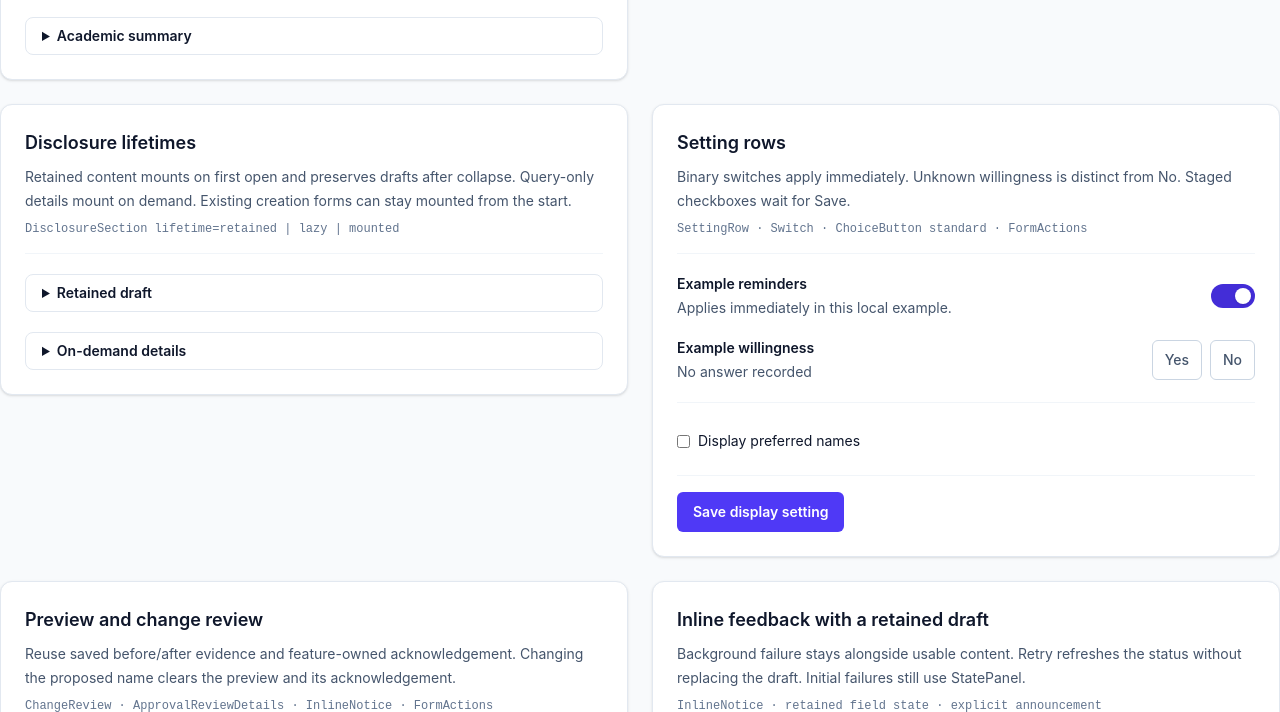
Test: demonstrates unknown willingness and retains draft text after a background retry
(page scrolled)
Expected: the text "No answer recorded" is shown, [677,363,812,380]
Click the button "No" at [1232, 360], box [1210,340,1255,380]
(page scrolled)
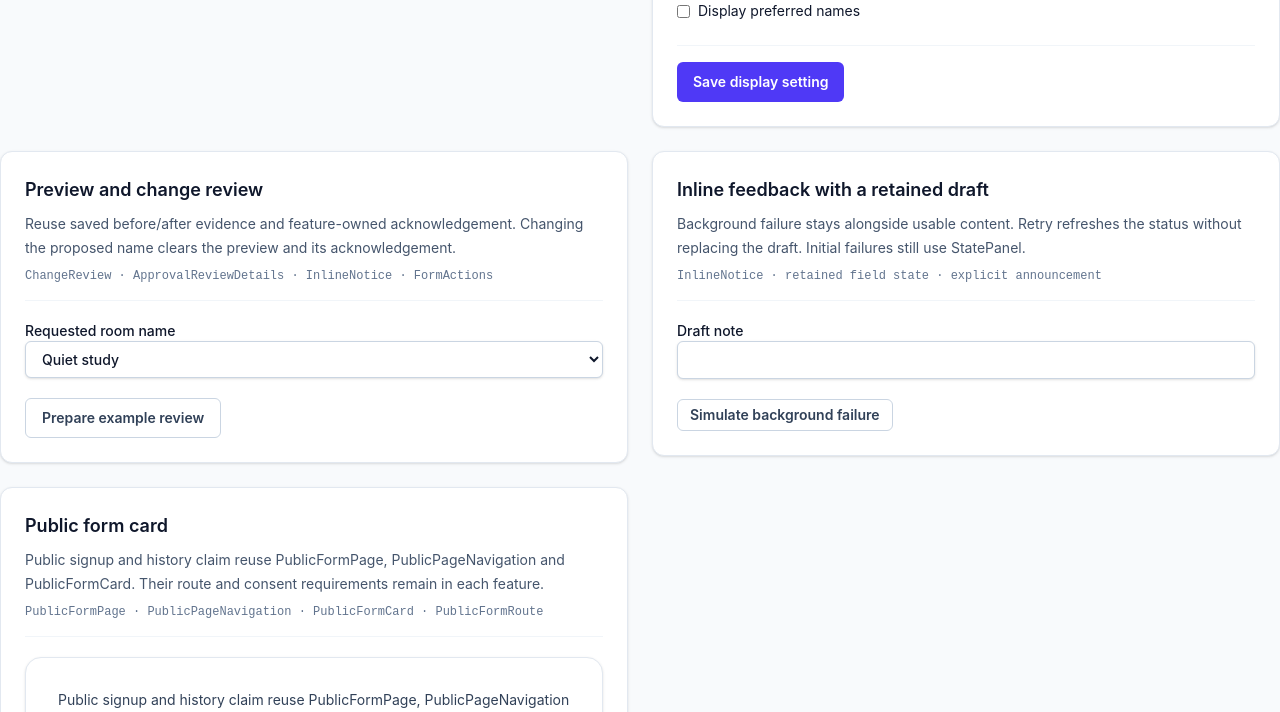
Expected: the text "No answer recorded" is gone
Type "Still editing" into the field labelled "Draft note" at [966, 360], box [677,341,1255,379]
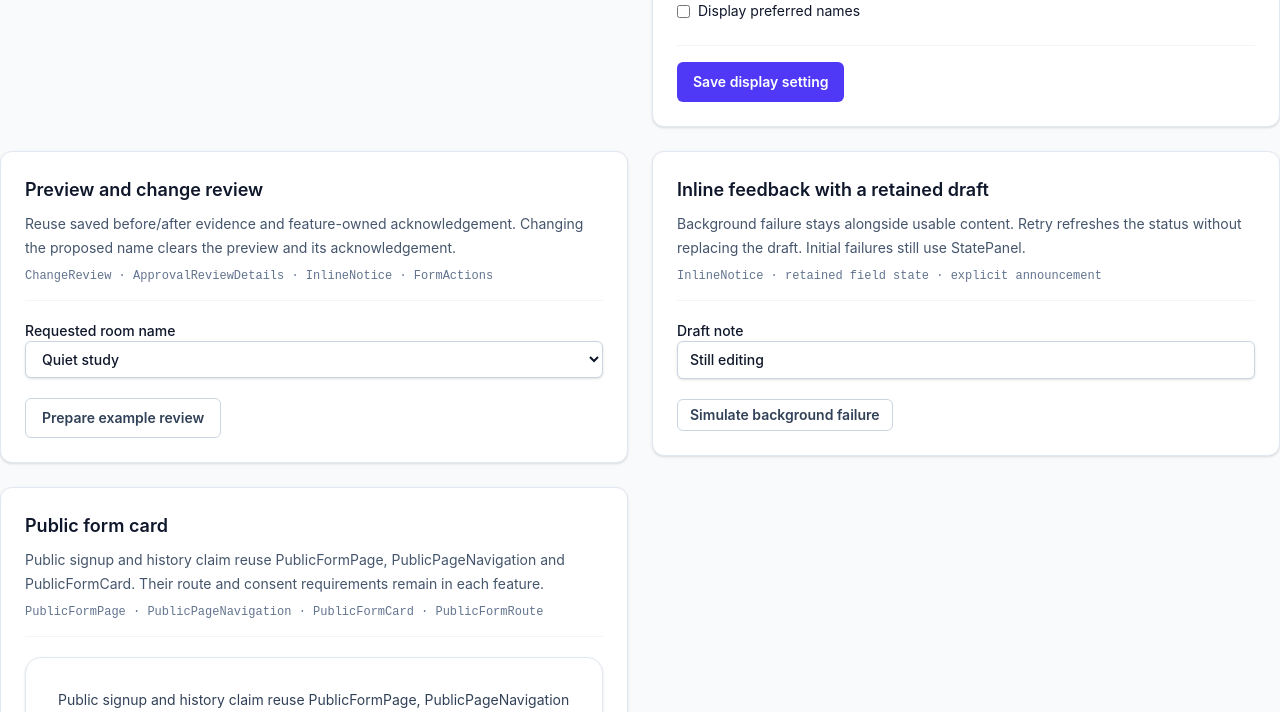
Click the button "Simulate background failure" at [785, 415], box [677,399,893,431]
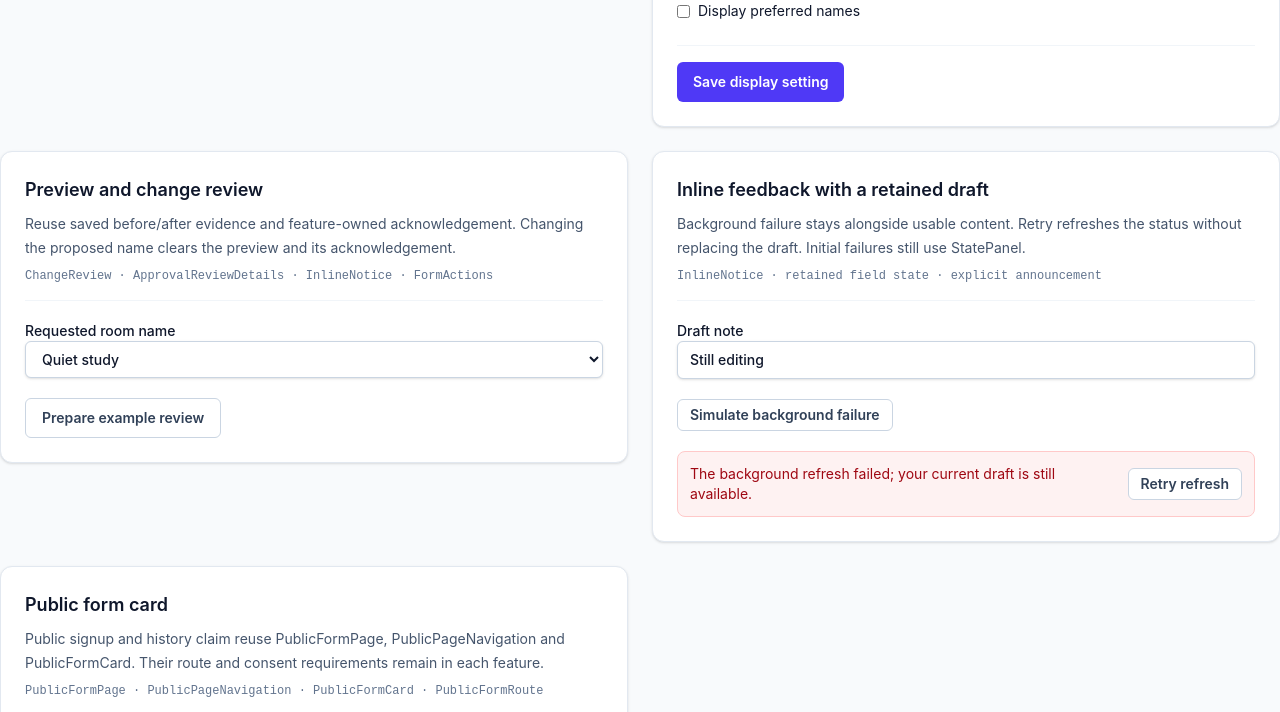
Click the button "Retry refresh" at [1185, 484], box [1128,468,1242,500]
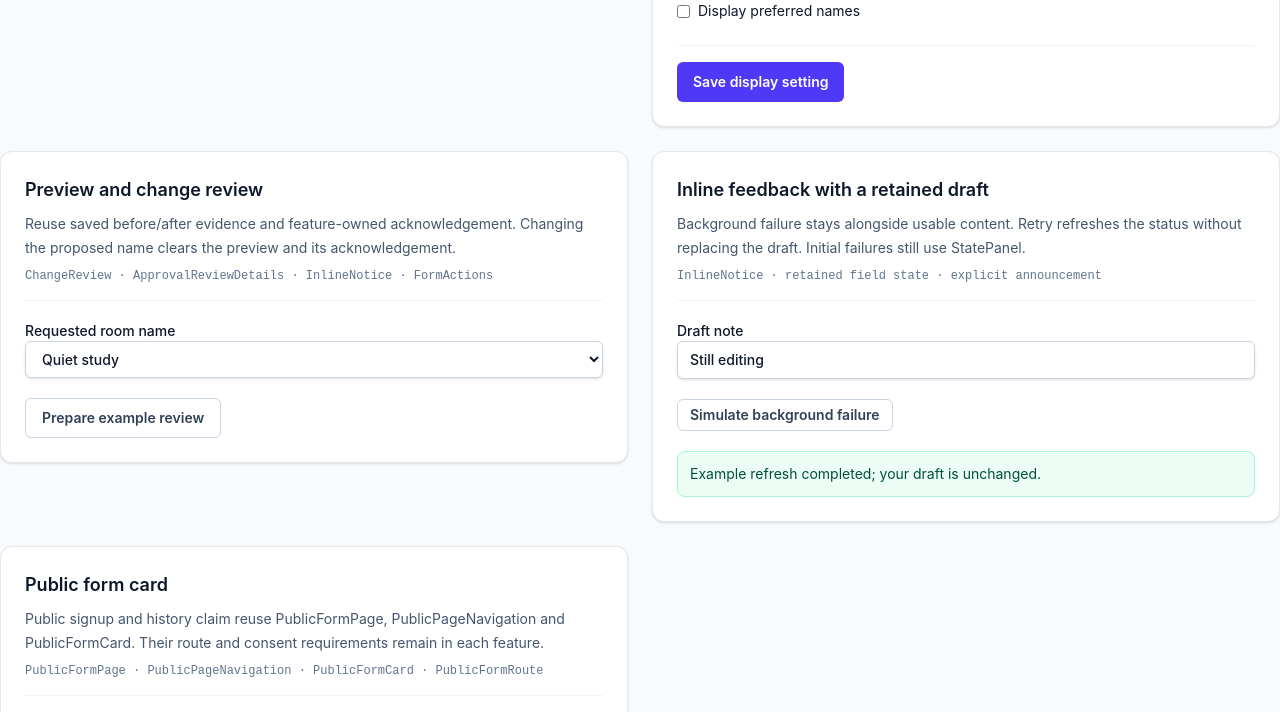
Expected: the message shows "draft is unchanged", [690,465,1041,482]
